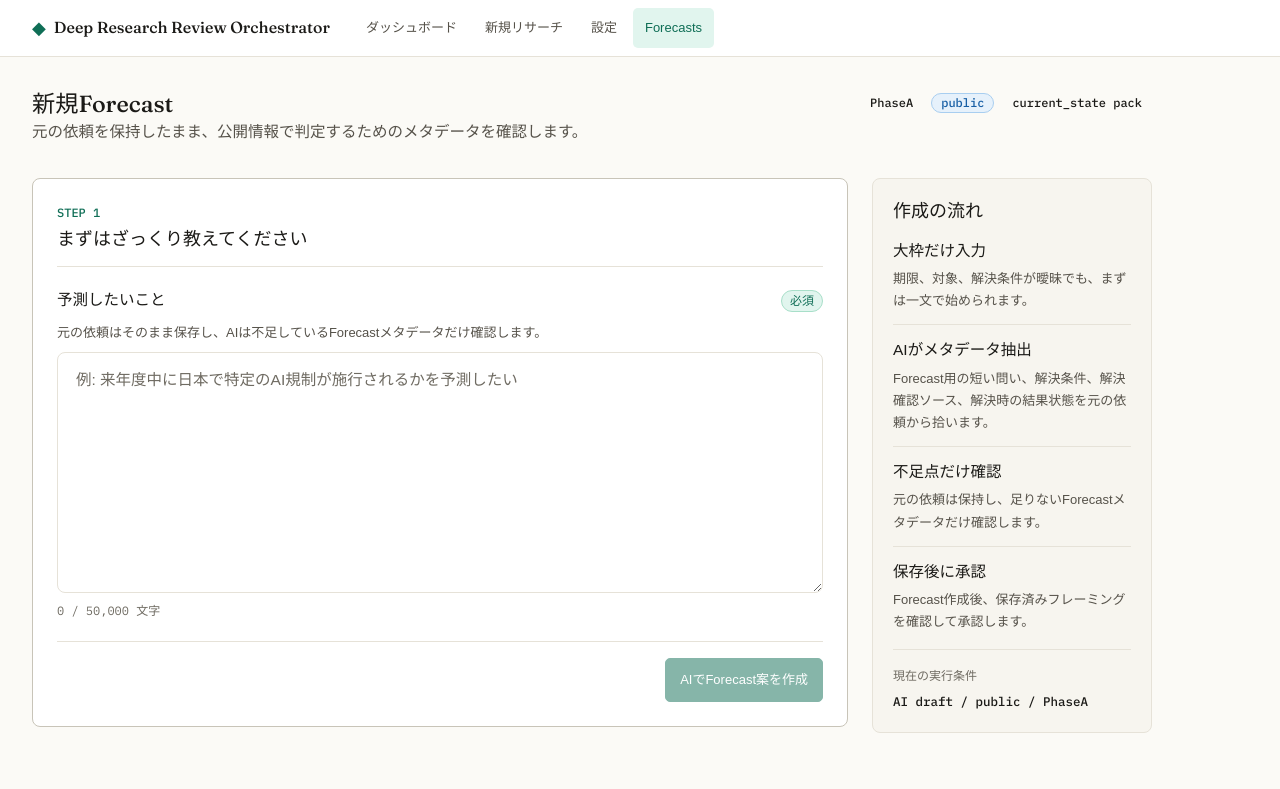
Test: Forecast UI › describes same-label clarifying answer fields with their prompt and rationale
This screenshot has width=1280, height=789.
Type "Will the product launch?" into the text box labelled "予測したいこと" at (440, 472), box [57,352,823,593]
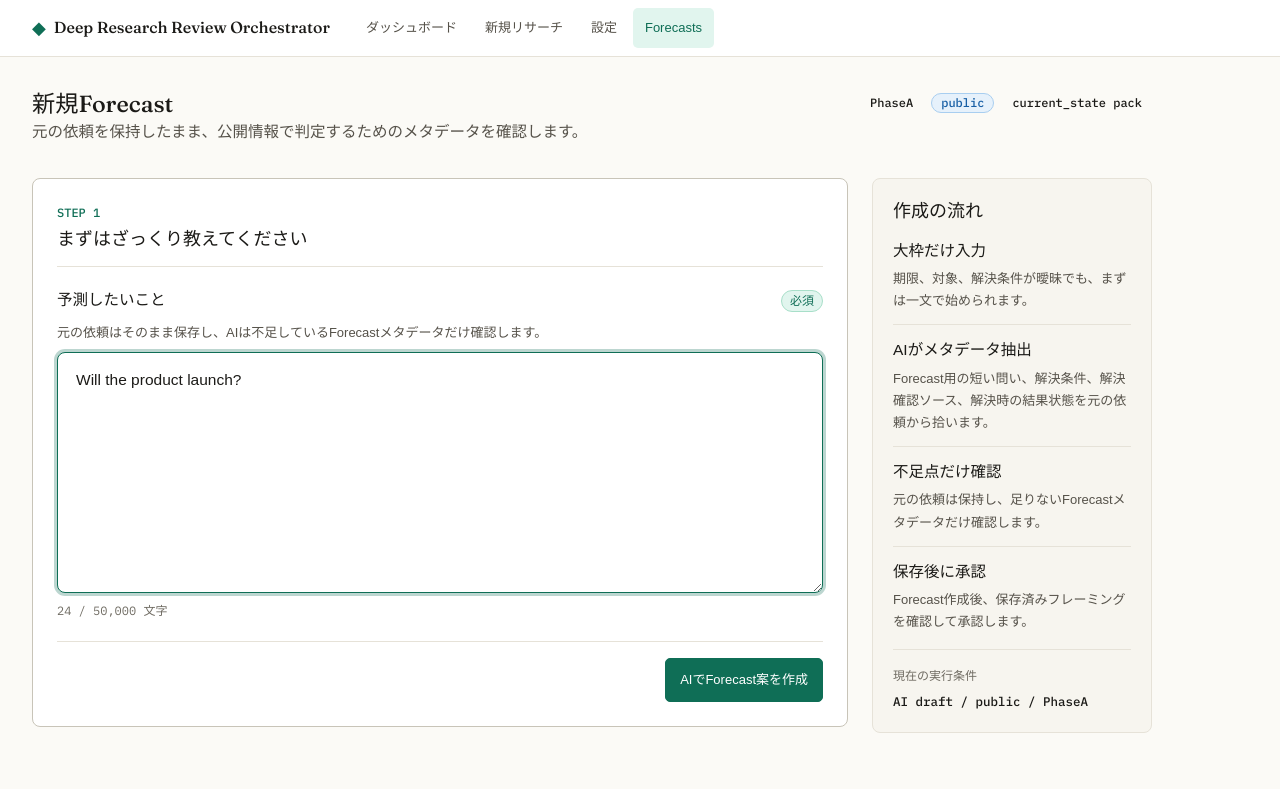
Click the button "AIでForecast案を作成" at (744, 680), box [665,658,823,702]
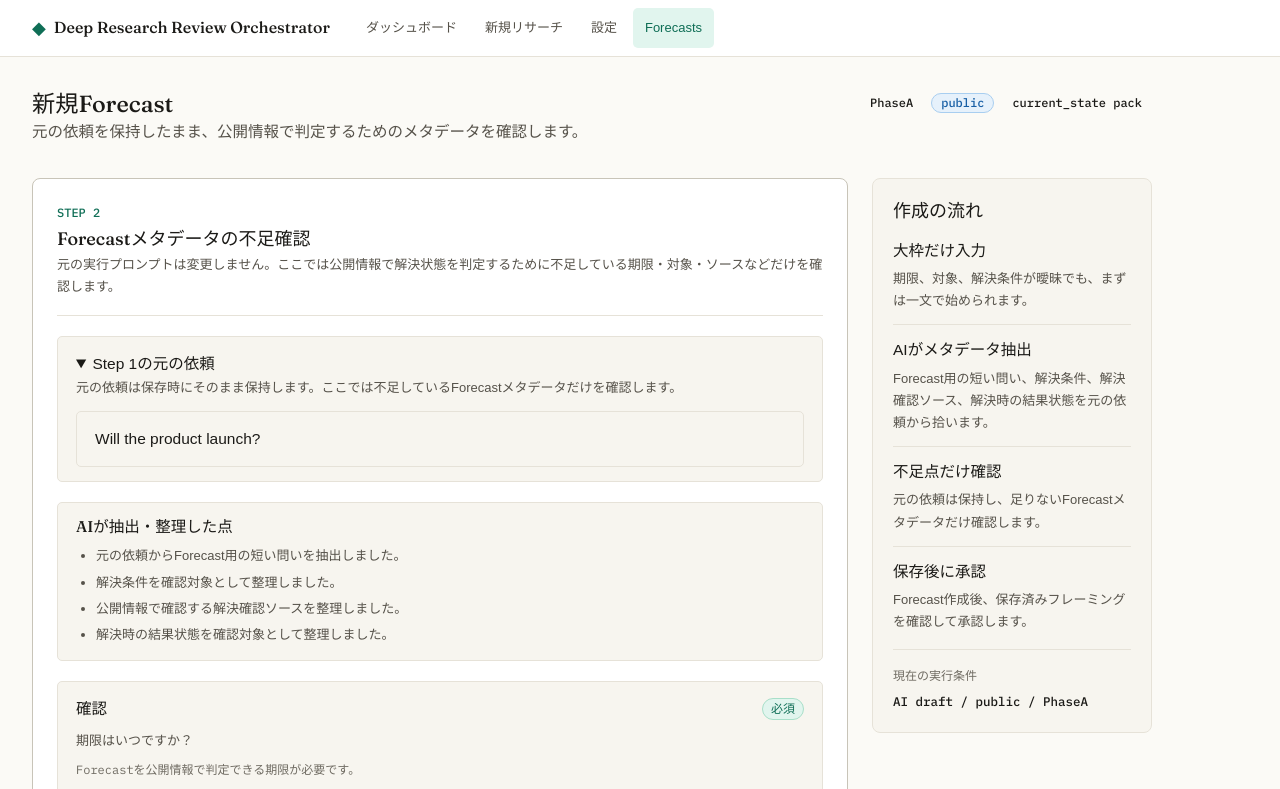
Now the number of text boxes labelled "確認" is 2
